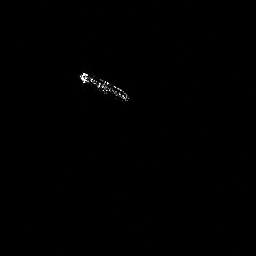ship: (79, 72, 131, 102)
